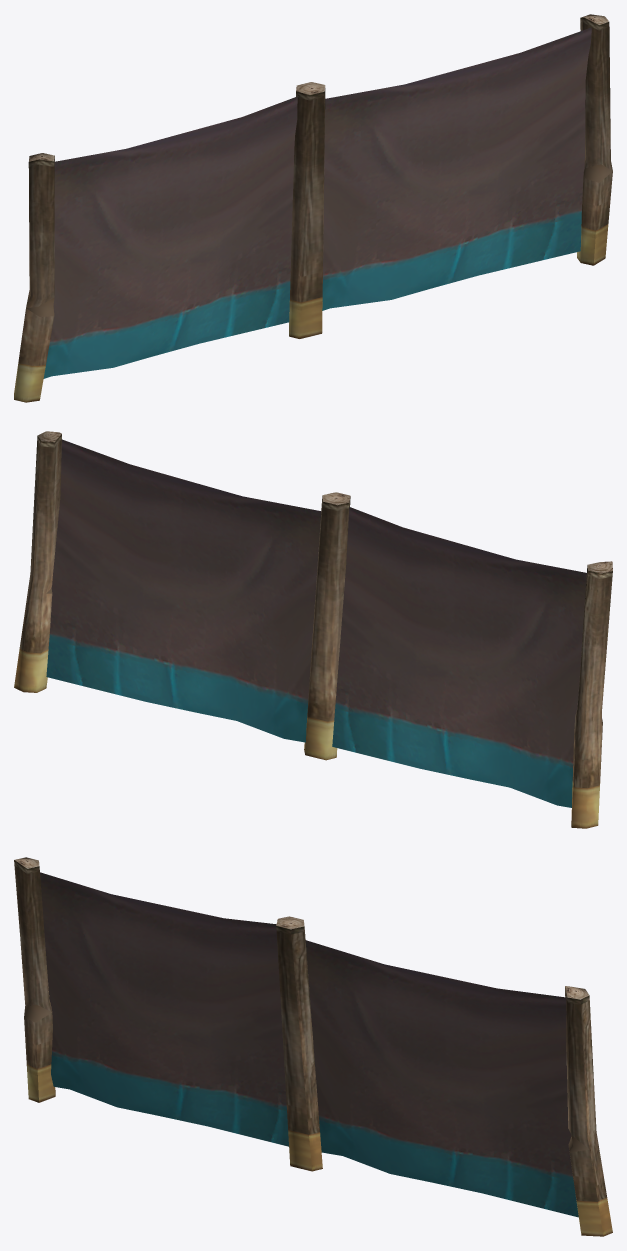
Rendered from daliang_field_b_s02g.fbx.
3 renders of one model, top to bottom at view 1: azimuth 30°, elevation 25°; view 2: azimuth 150°, elevation 25°; view 3: azimuth 330°, elevation 25°, orthographic.
Visible parts, largest first — view 1: daliang_field_b_s02g; view 2: daliang_field_b_s02g; view 3: daliang_field_b_s02g.
Boxes of the visible parts, left/top/right/bottom form: daliang_field_b_s02g: left=14, top=14, right=612, bottom=402; daliang_field_b_s02g: left=14, top=431, right=612, bottom=828; daliang_field_b_s02g: left=14, top=857, right=612, bottom=1236.
Size of the model in its own units: 827 by 341 by 74.69.
